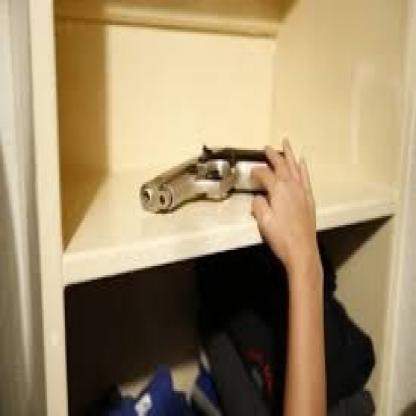Pistol: (133, 105, 289, 248)
